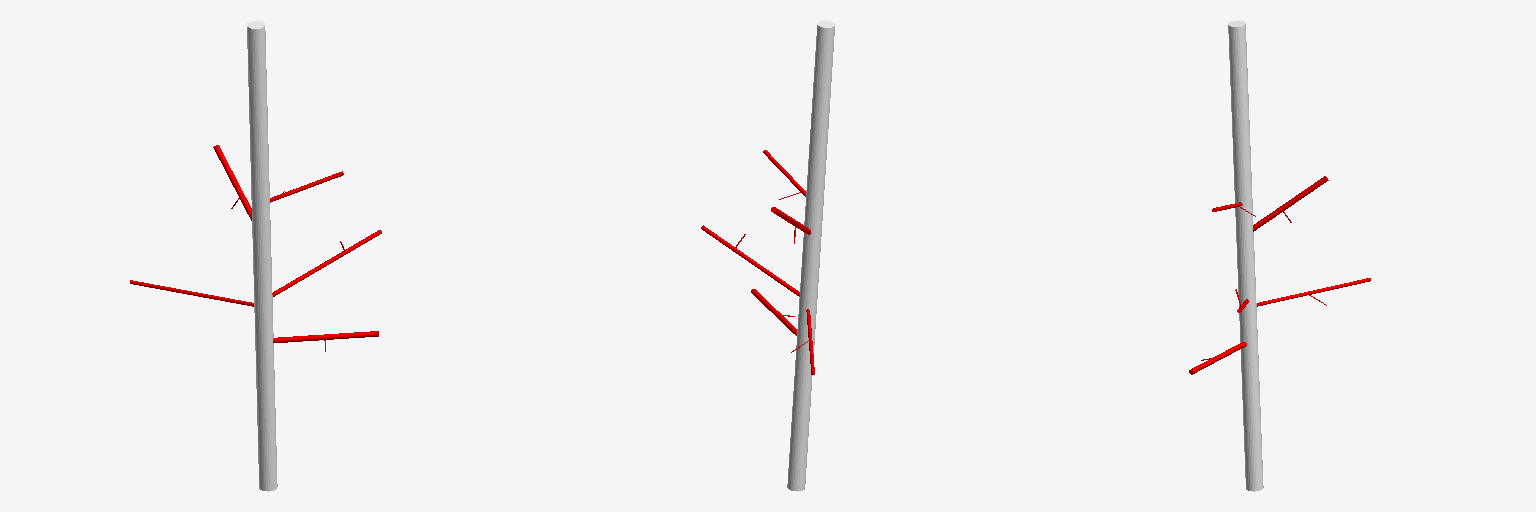
robot.urdf — tree_192.urdf:
<?xml version='1.0' encoding='UTF-8'?>
<robot name="tree_192.urdf">
  <link name="branch_0">
    <inertial>
      <origin xyz="0.0 0.0 0.0" rpy="0.0 -0.0 0.0"/>
      <mass value="0.1"/>
      <inertia ixx="0.001" ixy="0.0" ixz="0.0" iyy="0.001" iyz="0.0" izz="0.001"/>
    </inertial>
    <visual name="branch_0_visual">
      <geometry>
        <cylinder radius="0.19658924677011758" length="11.155453363147085"/>
      </geometry>
      <material name="branch_material"/>
      <origin xyz="-0.26458699117660883 -0.19754887344590844 5.567944243707705" rpy="5.560093278006697e-18 0.05923432259933454 -2.500251136496901"/>
    </visual>
    <collision name="branch_0_collision">
      <geometry>
        <cylinder radius="0.19658924677011758" length="11.155453363147085"/>
      </geometry>
      <origin xyz="-0.26458699117660883 -0.19754887344590844 5.567944243707705" rpy="5.560093278006697e-18 0.05923432259933454 -2.500251136496901"/>
    </collision>
  </link>
  <link name="branch_1">
    <inertial>
      <origin xyz="0.0 0.0 0.0" rpy="0.0 -0.0 0.0"/>
      <mass value="0.1"/>
      <inertia ixx="0.001" ixy="0.0" ixz="0.0" iyy="0.001" iyz="0.0" izz="0.001"/>
    </inertial>
    <visual name="branch_1_visual">
      <geometry>
        <cylinder radius="0.046357389899905496" length="1.8740243769229135"/>
      </geometry>
      <material name="semantic_material"/>
      <origin xyz="0.0 0.0 0.0" rpy="0.0 -0.0 0.0"/>
    </visual>
    <collision name="branch_1_collision">
      <geometry>
        <cylinder radius="0.046357389899905496" length="1.8740243769229135"/>
      </geometry>
      <origin xyz="0.0 0.0 0.0" rpy="0.0 -0.0 0.0"/>
    </collision>
  </link>
  <link name="branch_2">
    <inertial>
      <origin xyz="0.0 0.0 0.0" rpy="0.0 -0.0 0.0"/>
      <mass value="0.1"/>
      <inertia ixx="0.001" ixy="0.0" ixz="0.0" iyy="0.001" iyz="0.0" izz="0.001"/>
    </inertial>
    <visual name="branch_2_visual">
      <geometry>
        <cylinder radius="0.01" length="0.5553271725017218"/>
      </geometry>
      <material name="semantic_material"/>
      <origin xyz="0.0 0.0 0.0" rpy="0.0 -0.0 0.0"/>
    </visual>
    <collision name="branch_2_collision">
      <geometry>
        <cylinder radius="0.01" length="0.5553271725017218"/>
      </geometry>
      <origin xyz="0.0 0.0 0.0" rpy="0.0 -0.0 0.0"/>
    </collision>
  </link>
  <link name="branch_3">
    <inertial>
      <origin xyz="0.0 0.0 0.0" rpy="0.0 -0.0 0.0"/>
      <mass value="0.1"/>
      <inertia ixx="0.001" ixy="0.0" ixz="0.0" iyy="0.001" iyz="0.0" izz="0.001"/>
    </inertial>
    <visual name="branch_3_visual">
      <geometry>
        <cylinder radius="0.04110715746760034" length="3.2047526654173164"/>
      </geometry>
      <material name="semantic_material"/>
      <origin xyz="0.0 0.0 0.0" rpy="0.0 -0.0 0.0"/>
    </visual>
    <collision name="branch_3_collision">
      <geometry>
        <cylinder radius="0.04110715746760034" length="3.2047526654173164"/>
      </geometry>
      <origin xyz="0.0 0.0 0.0" rpy="0.0 -0.0 0.0"/>
    </collision>
  </link>
  <link name="branch_4">
    <inertial>
      <origin xyz="0.0 0.0 0.0" rpy="0.0 -0.0 0.0"/>
      <mass value="0.1"/>
      <inertia ixx="0.001" ixy="0.0" ixz="0.0" iyy="0.001" iyz="0.0" izz="0.001"/>
    </inertial>
    <visual name="branch_4_visual">
      <geometry>
        <cylinder radius="0.011400662756772999" length="0.5309033352846357"/>
      </geometry>
      <material name="semantic_material"/>
      <origin xyz="0.0 0.0 0.0" rpy="0.0 -0.0 0.0"/>
    </visual>
    <collision name="branch_4_collision">
      <geometry>
        <cylinder radius="0.011400662756772999" length="0.5309033352846357"/>
      </geometry>
      <origin xyz="0.0 0.0 0.0" rpy="0.0 -0.0 0.0"/>
    </collision>
  </link>
  <link name="branch_5">
    <inertial>
      <origin xyz="0.0 0.0 0.0" rpy="0.0 -0.0 0.0"/>
      <mass value="0.1"/>
      <inertia ixx="0.001" ixy="0.0" ixz="0.0" iyy="0.001" iyz="0.0" izz="0.001"/>
    </inertial>
    <visual name="branch_5_visual">
      <geometry>
        <cylinder radius="0.06466892363248339" length="2.2620164268598404"/>
      </geometry>
      <material name="semantic_material"/>
      <origin xyz="0.0 0.0 0.0" rpy="0.0 -0.0 0.0"/>
    </visual>
    <collision name="branch_5_collision">
      <geometry>
        <cylinder radius="0.06466892363248339" length="2.2620164268598404"/>
      </geometry>
      <origin xyz="0.0 0.0 0.0" rpy="0.0 -0.0 0.0"/>
    </collision>
  </link>
  <link name="branch_6">
    <inertial>
      <origin xyz="0.0 0.0 0.0" rpy="0.0 -0.0 0.0"/>
      <mass value="0.1"/>
      <inertia ixx="0.001" ixy="0.0" ixz="0.0" iyy="0.001" iyz="0.0" izz="0.001"/>
    </inertial>
    <visual name="branch_6_visual">
      <geometry>
        <cylinder radius="0.013304578837521475" length="0.4475846187950385"/>
      </geometry>
      <material name="semantic_material"/>
      <origin xyz="0.0 0.0 0.0" rpy="0.0 -0.0 0.0"/>
    </visual>
    <collision name="branch_6_collision">
      <geometry>
        <cylinder radius="0.013304578837521475" length="0.4475846187950385"/>
      </geometry>
      <origin xyz="0.0 0.0 0.0" rpy="0.0 -0.0 0.0"/>
    </collision>
  </link>
  <link name="branch_7">
    <inertial>
      <origin xyz="0.0 0.0 0.0" rpy="0.0 -0.0 0.0"/>
      <mass value="0.1"/>
      <inertia ixx="0.001" ixy="0.0" ixz="0.0" iyy="0.001" iyz="0.0" izz="0.001"/>
    </inertial>
    <visual name="branch_7_visual">
      <geometry>
        <cylinder radius="0.04746197619212046" length="2.980680471392872"/>
      </geometry>
      <material name="semantic_material"/>
      <origin xyz="0.0 0.0 0.0" rpy="0.0 -0.0 0.0"/>
    </visual>
    <collision name="branch_7_collision">
      <geometry>
        <cylinder radius="0.04746197619212046" length="2.980680471392872"/>
      </geometry>
      <origin xyz="0.0 0.0 0.0" rpy="0.0 -0.0 0.0"/>
    </collision>
  </link>
  <link name="branch_8">
    <inertial>
      <origin xyz="0.0 0.0 0.0" rpy="0.0 -0.0 0.0"/>
      <mass value="0.1"/>
      <inertia ixx="0.001" ixy="0.0" ixz="0.0" iyy="0.001" iyz="0.0" izz="0.001"/>
    </inertial>
    <visual name="branch_8_visual">
      <geometry>
        <cylinder radius="0.015078295508866302" length="0.4266904037616103"/>
      </geometry>
      <material name="semantic_material"/>
      <origin xyz="0.0 0.0 0.0" rpy="0.0 -0.0 0.0"/>
    </visual>
    <collision name="branch_8_collision">
      <geometry>
        <cylinder radius="0.015078295508866302" length="0.4266904037616103"/>
      </geometry>
      <origin xyz="0.0 0.0 0.0" rpy="0.0 -0.0 0.0"/>
    </collision>
  </link>
  <link name="branch_9">
    <inertial>
      <origin xyz="0.0 0.0 0.0" rpy="0.0 -0.0 0.0"/>
      <mass value="0.1"/>
      <inertia ixx="0.001" ixy="0.0" ixz="0.0" iyy="0.001" iyz="0.0" izz="0.001"/>
    </inertial>
    <visual name="branch_9_visual">
      <geometry>
        <cylinder radius="0.060536557836728344" length="2.4398273231049057"/>
      </geometry>
      <material name="semantic_material"/>
      <origin xyz="0.0 0.0 0.0" rpy="0.0 -0.0 0.0"/>
    </visual>
    <collision name="branch_9_collision">
      <geometry>
        <cylinder radius="0.060536557836728344" length="2.4398273231049057"/>
      </geometry>
      <origin xyz="0.0 0.0 0.0" rpy="0.0 -0.0 0.0"/>
    </collision>
  </link>
  <link name="branch_10">
    <inertial>
      <origin xyz="0.0 0.0 0.0" rpy="0.0 -0.0 0.0"/>
      <mass value="0.1"/>
      <inertia ixx="0.001" ixy="0.0" ixz="0.0" iyy="0.001" iyz="0.0" izz="0.001"/>
    </inertial>
    <visual name="branch_10_visual">
      <geometry>
        <cylinder radius="0.01330550909265018" length="0.44869315150351063"/>
      </geometry>
      <material name="semantic_material"/>
      <origin xyz="0.0 0.0 0.0" rpy="0.0 -0.0 0.0"/>
    </visual>
    <collision name="branch_10_collision">
      <geometry>
        <cylinder radius="0.01330550909265018" length="0.44869315150351063"/>
      </geometry>
      <origin xyz="0.0 0.0 0.0" rpy="0.0 -0.0 0.0"/>
    </collision>
  </link>
  <joint name="joint_0_1" type="fixed">
    <parent link="branch_0"/>
    <child link="branch_1"/>
    <axis xyz="1. 0. 0."/>
    <origin xyz="0.49732573999291824 -0.5750355012338115 7.127420538449568" rpy="0.15353396473696668 1.2368261355531671 -0.22263762432642062"/>
  </joint>
  <joint name="joint_0_3" type="fixed">
    <parent link="branch_0"/>
    <child link="branch_3"/>
    <axis xyz="1. 0. 0."/>
    <origin xyz="-1.0557735132290895 1.203229245252671 4.285924615349281" rpy="-2.146116547797946 1.5004051707764472 -0.015178474413385197"/>
  </joint>
  <joint name="joint_0_5" type="fixed">
    <parent link="branch_0"/>
    <child link="branch_5"/>
    <axis xyz="1. 0. 0."/>
    <origin xyz="-0.32302722146364254 0.693641791248793 6.761945781487978" rpy="-0.07992869258355806 0.9331636130318292 1.5083473333241855"/>
  </joint>
  <joint name="joint_0_7" type="fixed">
    <parent link="branch_0"/>
    <child link="branch_7"/>
    <axis xyz="1. 0. 0."/>
    <origin xyz="1.178809619973622 -0.25093472799779826 5.0192328138007944" rpy="0.10737112641682554 1.2098615891178925 0.049143624781887926"/>
  </joint>
  <joint name="joint_0_9" type="fixed">
    <parent link="branch_0"/>
    <child link="branch_9"/>
    <axis xyz="1. 0. 0."/>
    <origin xyz="0.8648052798017153 -0.7667162308375342 3.621913133032059" rpy="0.5633815740155563 1.4675518595989934 0.009242500799708503"/>
  </joint>
  <joint name="joint_1_2" type="fixed">
    <parent link="branch_0"/>
    <child link="branch_2"/>
    <axis xyz="1. 0. 0."/>
    <origin xyz="0.23724650138858314 -0.19138242072382064 6.909665162872452" rpy="1.7923075717299688 0.38989763555353707 2.519960052102612"/>
  </joint>
  <joint name="joint_3_4" type="fixed">
    <parent link="branch_0"/>
    <child link="branch_4"/>
    <axis xyz="1. 0. 0."/>
    <origin xyz="-0.9189727410001903 1.3880843875412554 4.192775357570166" rpy="-1.9403064763835607 0.1548507052529006 -0.541919798201281"/>
  </joint>
  <joint name="joint_5_6" type="fixed">
    <parent link="branch_0"/>
    <child link="branch_6"/>
    <axis xyz="1. 0. 0."/>
    <origin xyz="-0.37407591756524516 0.7024780825868489 6.500532312159292" rpy="2.9268630006480354 0.5353688154444056 -1.5068191559046016"/>
  </joint>
  <joint name="joint_7_8" type="fixed">
    <parent link="branch_0"/>
    <child link="branch_8"/>
    <axis xyz="1. 0. 0."/>
    <origin xyz="1.6290356417628804 -0.35283584422670045 5.402747413288024" rpy="-0.36726652212265215 0.4752246437154119 3.0284699127412864"/>
  </joint>
  <joint name="joint_9_10" type="fixed">
    <parent link="branch_0"/>
    <child link="branch_10"/>
    <axis xyz="1. 0. 0."/>
    <origin xyz="0.8282434823337396 -0.991925870008167 3.5526745161686883" rpy="-1.915237051764294 0.10472741227940993 2.6336340056527225"/>
  </joint>
  <material name="branch_material">
    <color rgba="1. 1. 1. 1."/>
  </material>
  <material name="semantic_material">
    <color rgba="1. 0. 0. 1."/>
  </material>
</robot>

--- Facts derived from the render (not from the file) ---
3 views of the same robot in one strip: view 1: azimuth 30°, elevation 25°; view 2: azimuth 150°, elevation 25°; view 3: azimuth 270°, elevation 25° (orthographic).
Model tree_192.urdf with 11 links and 10 joints (10 fixed), rooted at branch_0, posed every joint at zero.
Visible links, largest first — view 1: branch_0, branch_9, branch_7; view 2: branch_0; view 3: branch_0.
Link boxes in pixels (x1=…): branch_0: x1=247, y1=20, x2=277, y2=491; branch_9: x1=273, y1=331, x2=378, y2=342; branch_7: x1=272, y1=230, x2=381, y2=296; branch_0: x1=787, y1=20, x2=834, y2=491; branch_0: x1=1228, y1=20, x2=1263, y2=491.
Bounding box of the posed robot: 4.53 × 4.04 × 11.16 m (x, y, z).
Geometry: primitives only (box / cylinder / sphere), no mesh files.